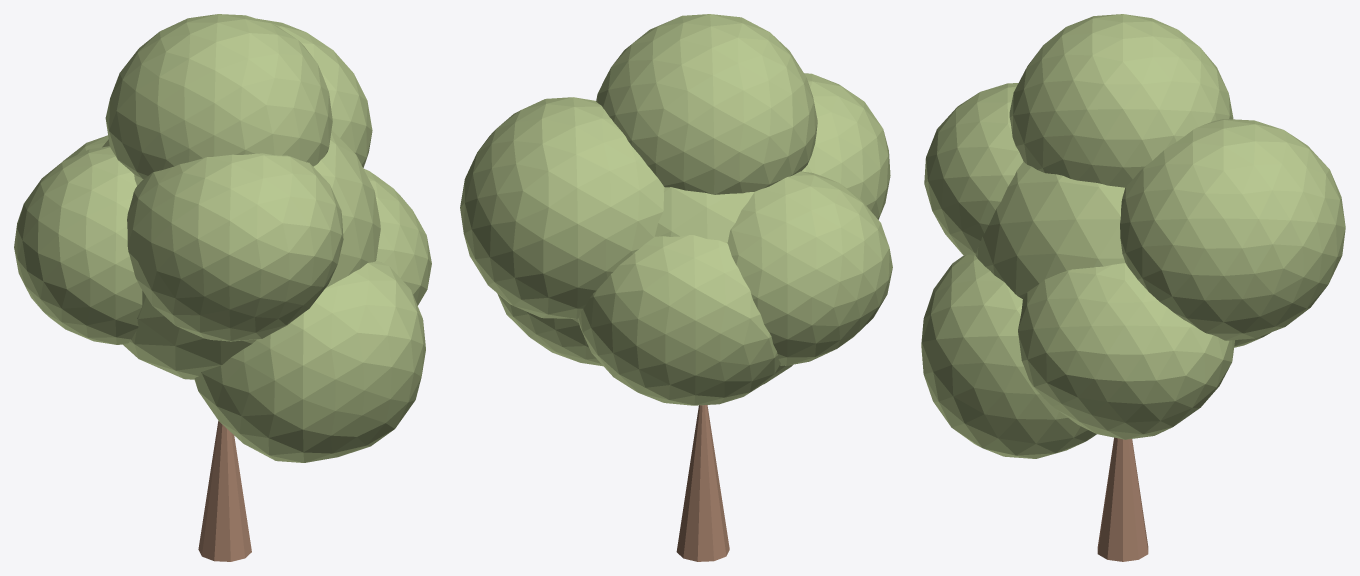
File: tree_b.glb
The picture shows the model from 3 angles, left to right: view 1: azimuth 30°, elevation 25°; view 2: azimuth 150°, elevation 25°; view 3: azimuth 270°, elevation 25°; orthographic projection.
Visible parts, largest first — view 1: crown, trunk; view 2: crown, trunk; view 3: crown, trunk.
Boxes of the visible parts, x1=… form: crown: x1=14, y1=14, x2=431, y2=462; trunk: x1=198, y1=421, x2=251, y2=561; crown: x1=460, y1=14, x2=892, y2=405; trunk: x1=676, y1=405, x2=729, y2=561; crown: x1=921, y1=14, x2=1345, y2=458; trunk: x1=1097, y1=437, x2=1148, y2=561.
Bounding box in the file's own units: 5.87 × 7.87 × 5.77.
